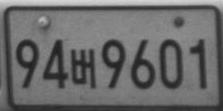0: (159, 38, 183, 88)
1: (189, 38, 212, 89)
4: (42, 38, 69, 89)
6: (130, 38, 156, 89)
9: (14, 38, 40, 88), (101, 38, 126, 88)
버: (71, 48, 95, 88)
